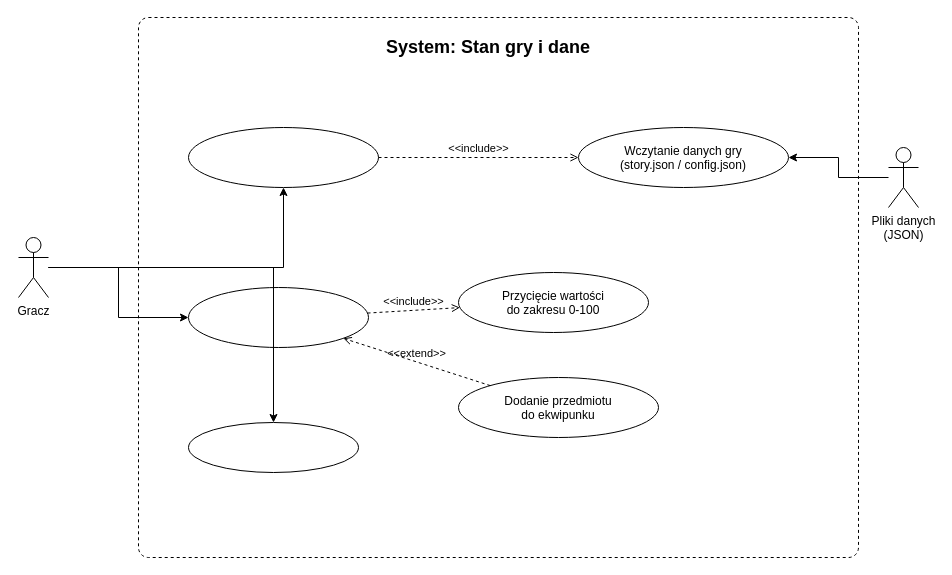
Image size: 952x575. Some labels were removed from this diagram. The shapes that lost their labels are listed below. From the top down, each one's box as (x1, y1, x2, y2) in pixels, then its label:
(188, 126, 378, 188): Utworzenie stanu początkowego
(188, 286, 368, 348): Aktualizacja statystyk
(188, 422, 358, 472): Pobranie kopii stanu
